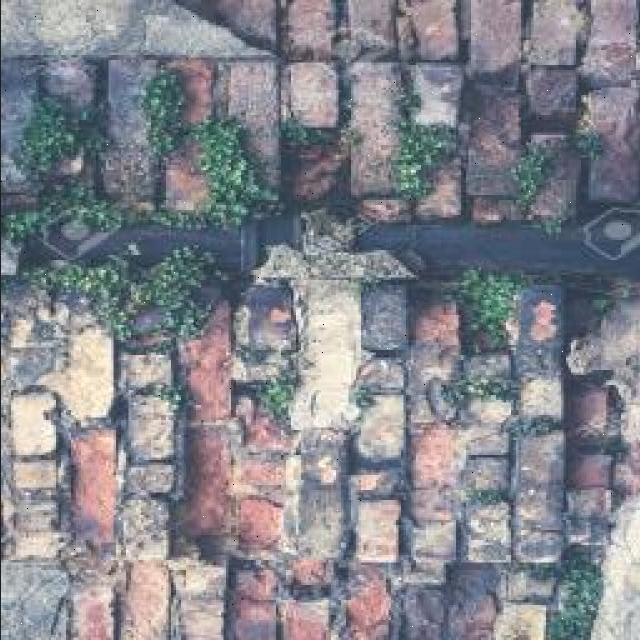crack: (1, 0, 638, 638), (345, 62, 407, 199), (461, 84, 527, 201), (220, 56, 283, 169), (1, 55, 50, 195), (581, 84, 640, 199), (105, 56, 163, 157), (2, 559, 73, 638), (185, 1, 286, 52), (466, 0, 525, 78), (525, 0, 588, 70), (582, 0, 635, 80), (285, 59, 342, 129), (408, 62, 463, 131), (403, 1, 462, 65), (281, 0, 338, 61), (345, 0, 402, 60), (4, 342, 60, 397), (525, 67, 578, 122)
dampness: (176, 288, 308, 566), (2, 385, 66, 556)
vegetation: (5, 72, 278, 343), (47, 303, 124, 557), (4, 93, 123, 247), (378, 84, 462, 204), (279, 87, 358, 204), (17, 257, 132, 324), (510, 141, 563, 229), (570, 100, 605, 163)
